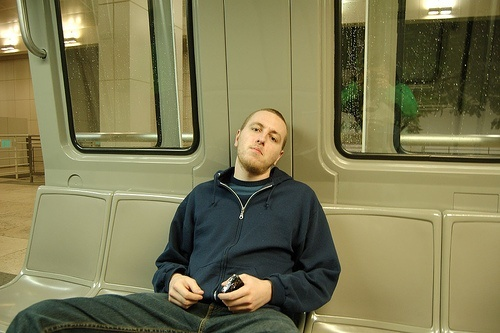head: (234, 109, 290, 177)
person: (12, 112, 338, 329)
